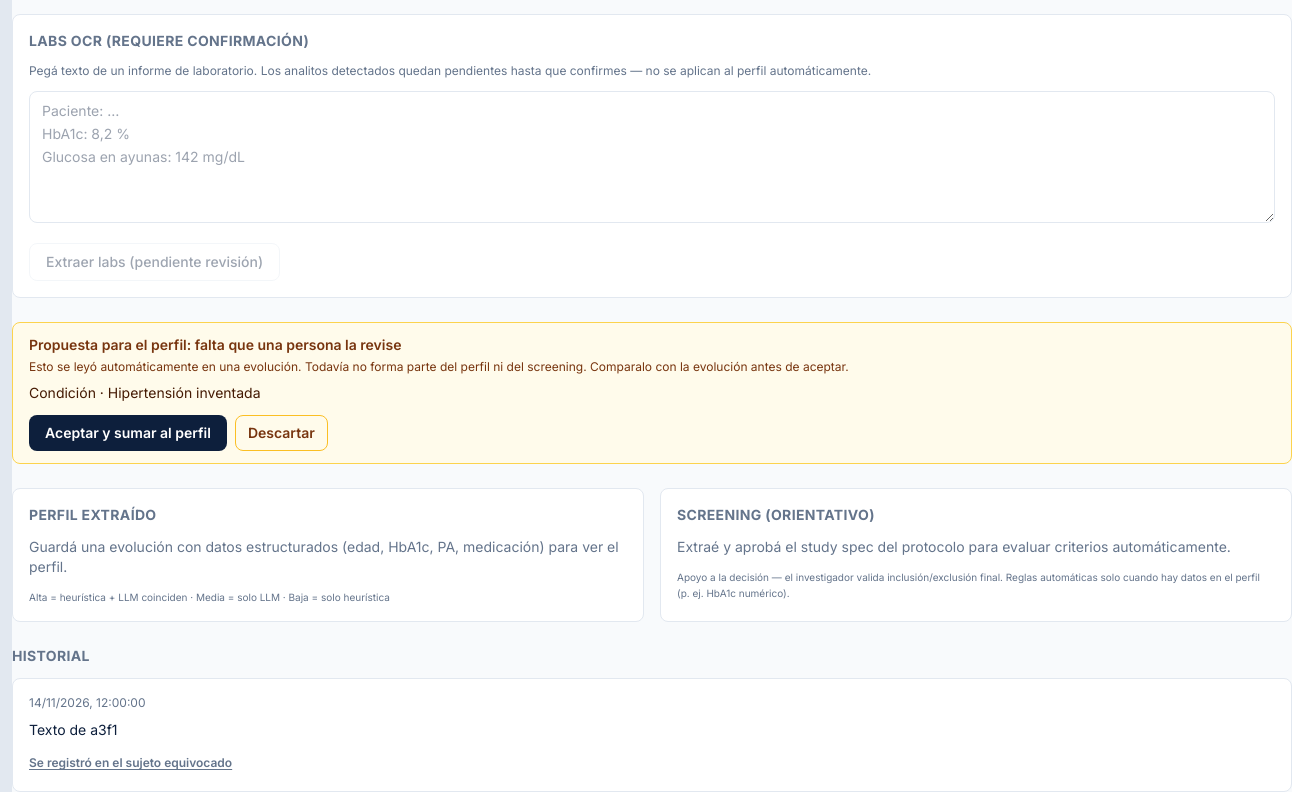
Test: después de una declaración confirmada › si las dos lecturas salen bien, no queda ningún aviso de relectura
(page scrolled)
Click the button "Se registró en el sujeto equivocado". click: [131, 763]
box: top-left (29, 755), bottom-right (232, 771)
(page scrolled)
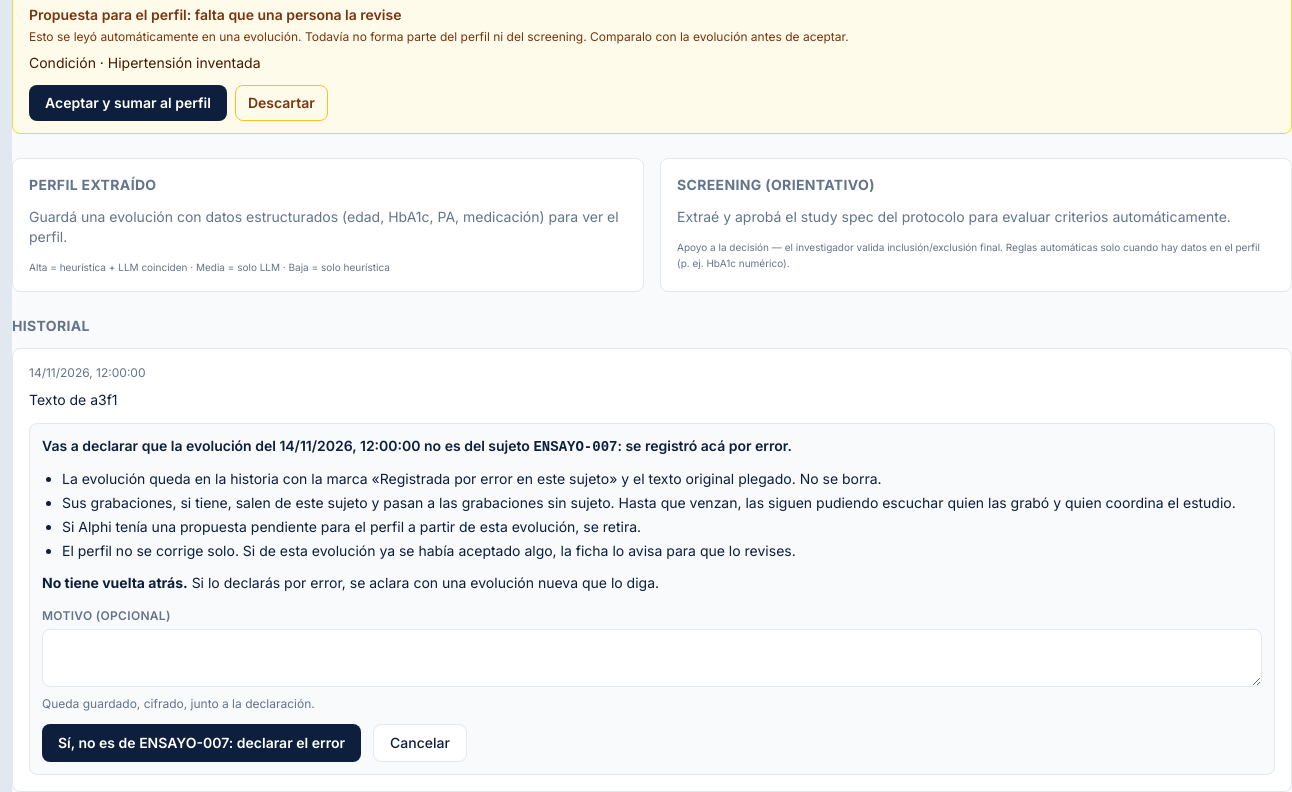
Click the button "Sí, no es de ENSAYO-007: declarar el error". click: [202, 743]
box: top-left (42, 724), bottom-right (361, 762)
(page scrolled)
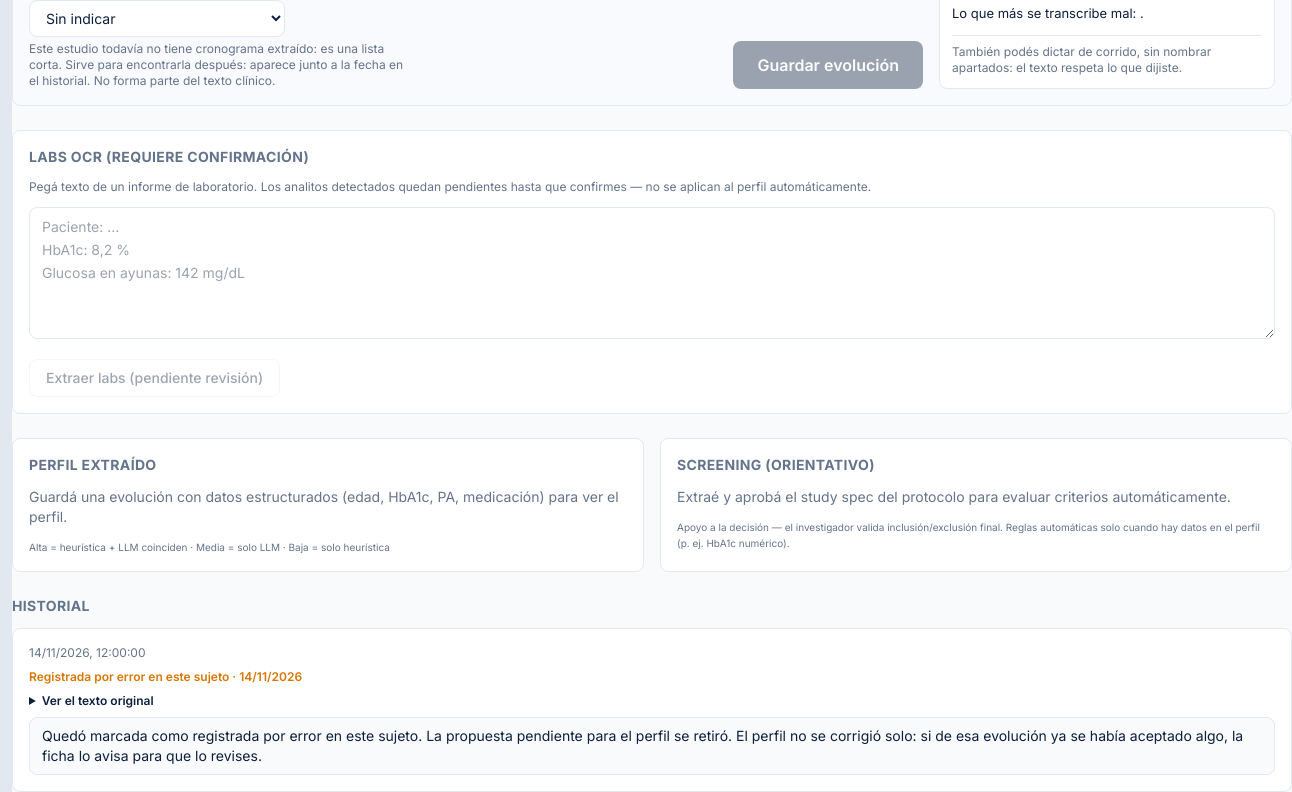
Now the list item shows "Registrada por error en este sujeto", box top-left (29, 668), bottom-right (302, 684)
Now the list item shows "Quedó marcada como registrada por error en este sujeto.", box top-left (42, 726), bottom-right (1243, 764)
Now the text "Condición · Hipertensión inventada" is gone
